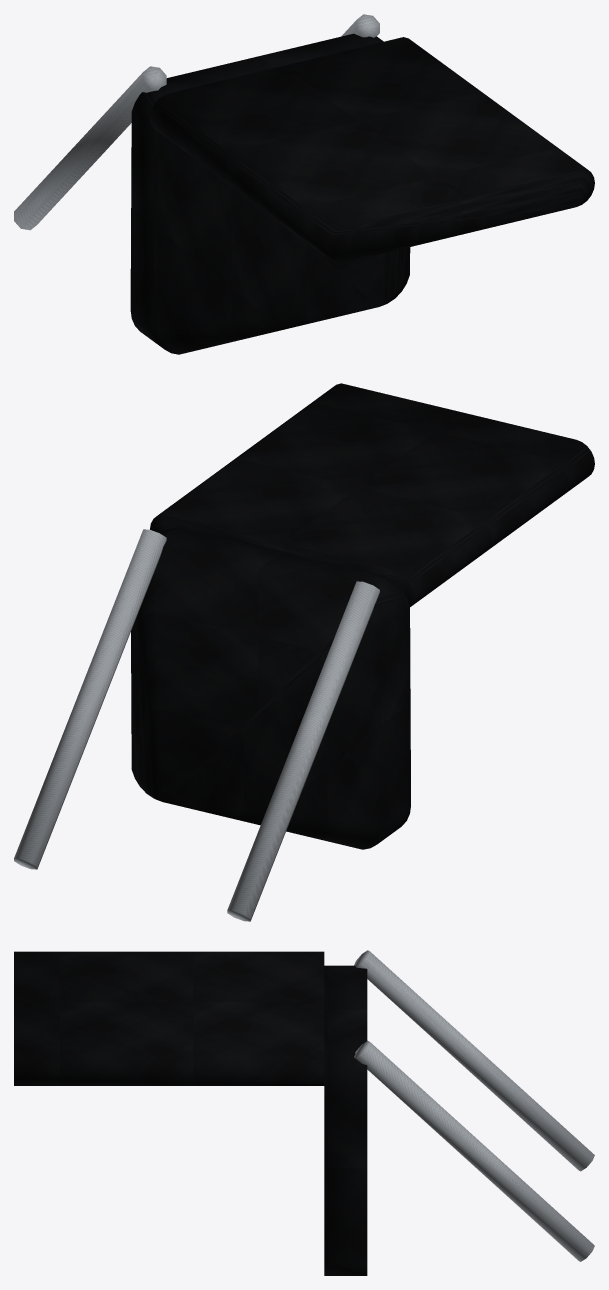
File: MEETING_CHAIR_BLACK_001.glb
3 renders of one model, top to bottom at view 1: azimuth 30°, elevation 25°; view 2: azimuth 150°, elevation 25°; view 3: azimuth 270°, elevation 25°, orthographic. The views are drawn at different scales.
Visible parts, largest first — view 1: back_001, seat_000, sled_002, sled_003; view 2: seat_000, back_001, sled_002, sled_003; view 3: back_001, seat_000, sled_003, sled_002.
Part boxes in pixels (box(x1,y1,x2,y2)): back_001: box(150, 37, 594, 263); seat_000: box(130, 33, 410, 354); sled_002: box(14, 66, 166, 230); sled_003: box(341, 14, 379, 37); seat_000: box(131, 526, 410, 849); back_001: box(150, 383, 594, 606); sled_002: box(227, 581, 379, 921); sled_003: box(14, 529, 166, 869); back_001: box(14, 951, 324, 1085); seat_000: box(324, 965, 367, 1275); sled_003: box(354, 1040, 594, 1261); sled_002: box(354, 950, 594, 1171).
Size of the model in its own units: 0.5 by 0.4856 by 1.09.
Materials: 2 (2 with a texture image).
